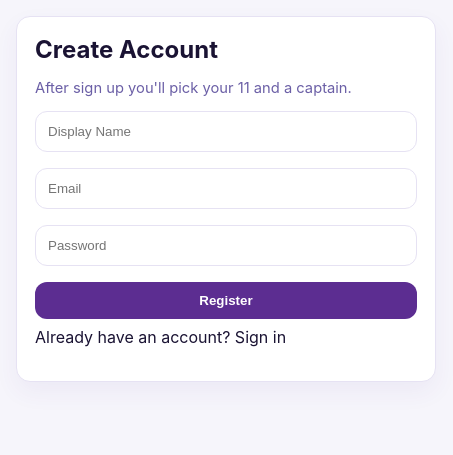
Test case: Register Component › shows specific error for weak password
The width and height of the screenshot is (453, 455).
Type "John Doe" into the field with placeholder "Display Name" at [226, 132], box [35, 111, 417, 152]
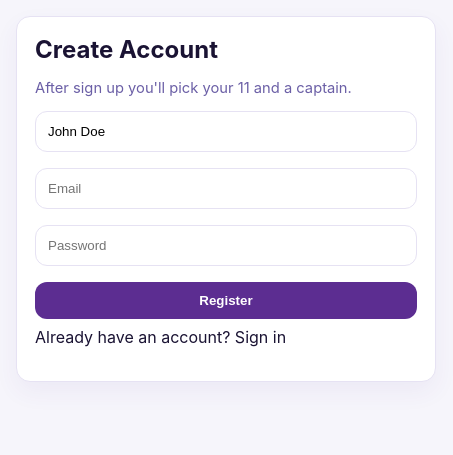
Type "john@example.com" into the field with placeholder "Email" at [226, 189], box [35, 168, 417, 209]
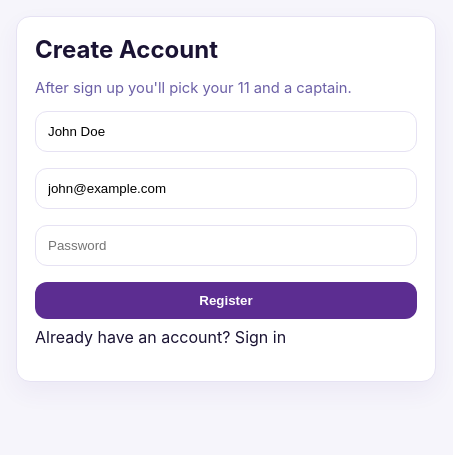
Type "password123" into the password field with placeholder "Password" at [226, 246], box [35, 225, 417, 266]
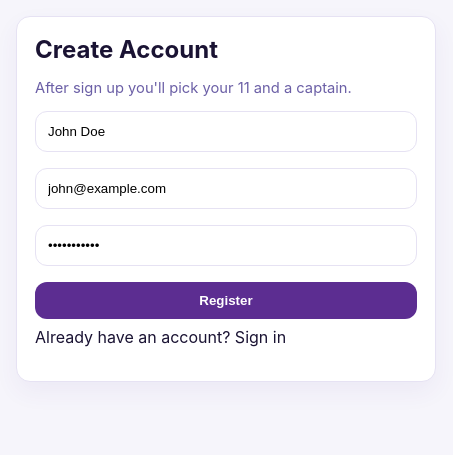
Click the button "Register" at [226, 301], box [35, 282, 417, 319]
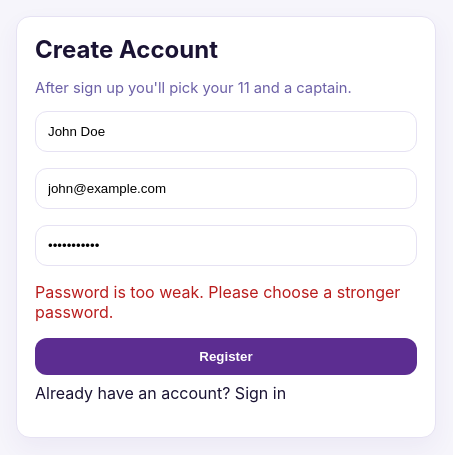
Expected: the text "Password is too weak. Please choose a stronger password." is shown, [35, 282, 417, 322]
